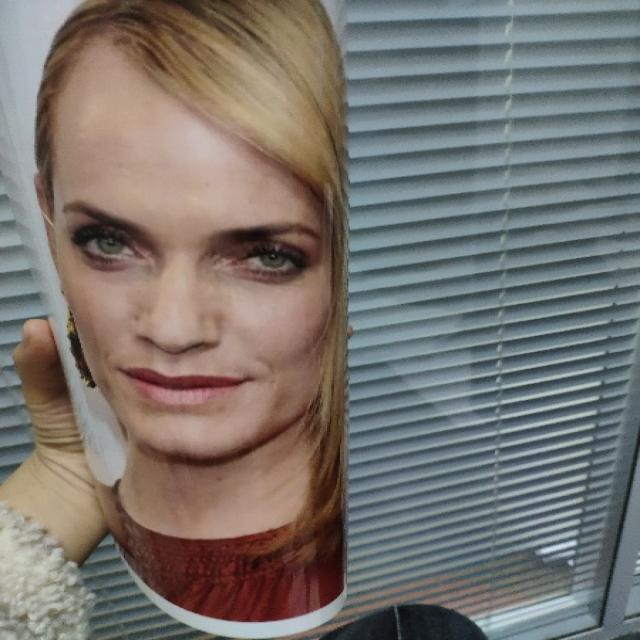photo: (1, 0, 357, 633)
